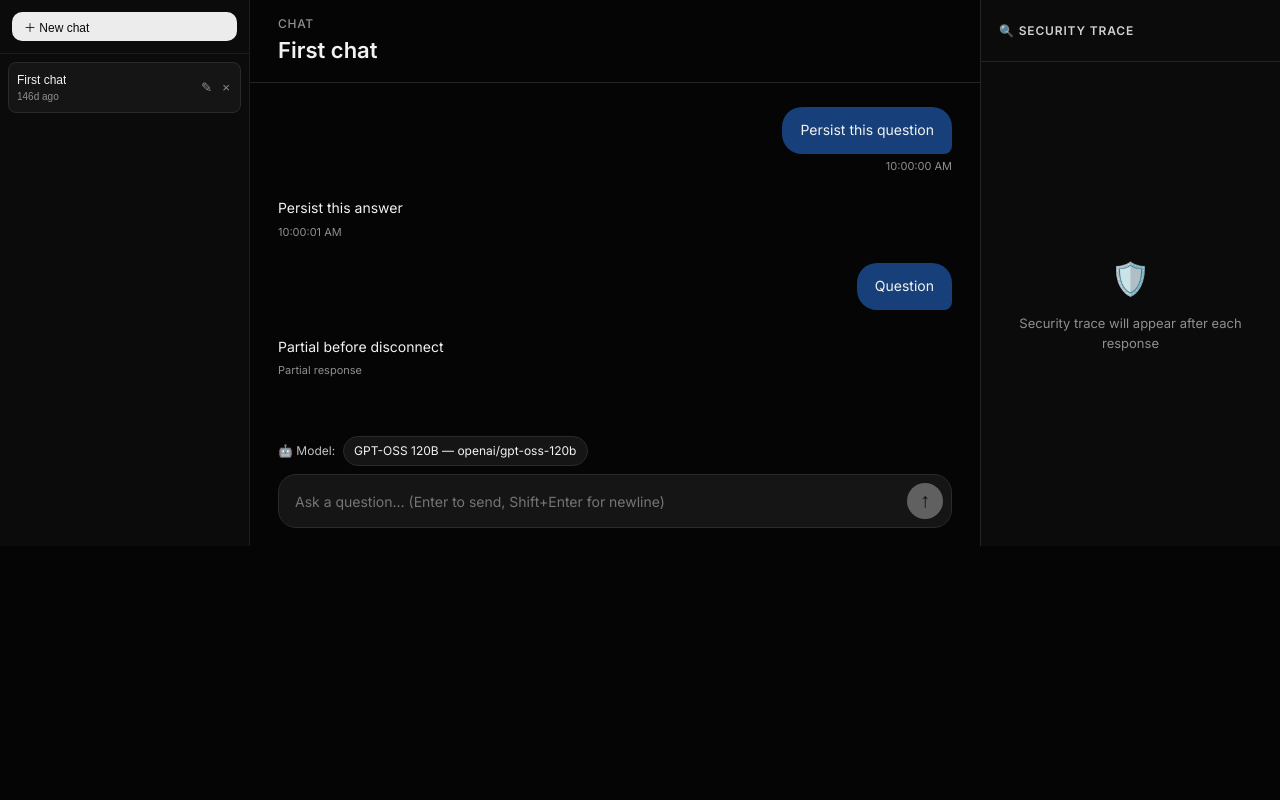
Test: persistent conversations › stops the animation and keeps received text when the stream errors
This screenshot has width=1280, height=800.
Check: the text "Persist this answer" is shown, box [278,197,403,220]
Type "Question" into the text box with id "chat-input" at [596, 501], box [295,484,897,519]
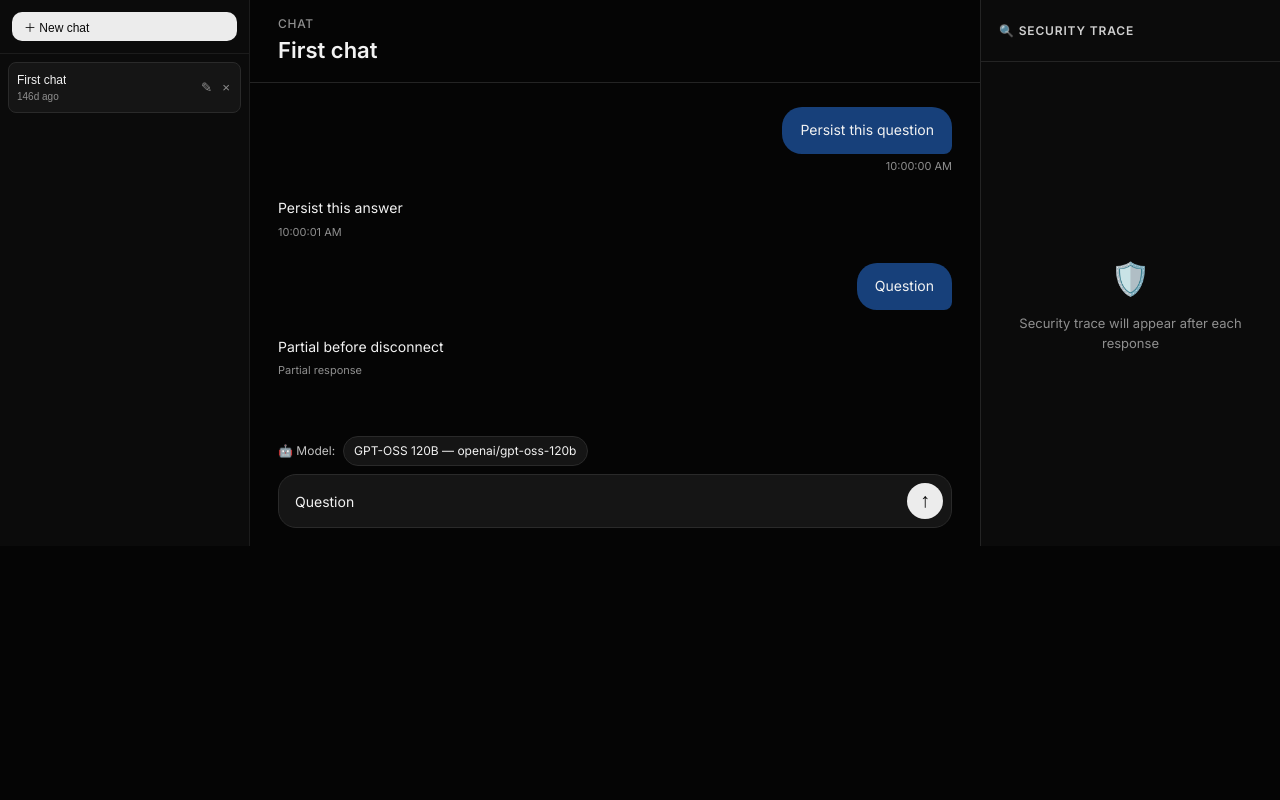
Click the button named "Send" at [925, 501], box [907,483,943,519]
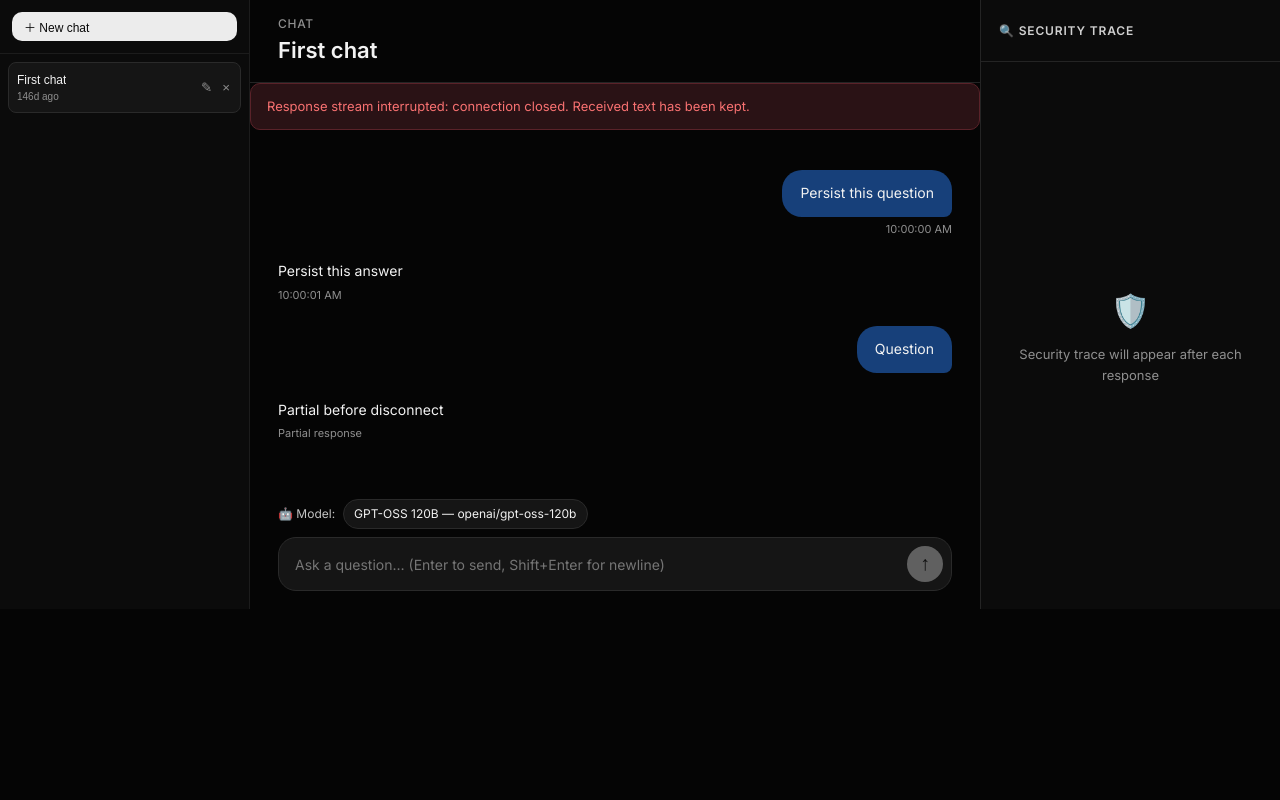
Check: the text "Partial before disconnect" is shown, box [278,398,444,421]
Check: the text "Partial response" is shown, box [278,426,362,440]
Type "Continue after disconnect" into the text box with id "chat-input" at [596, 564], box [295,546,897,582]
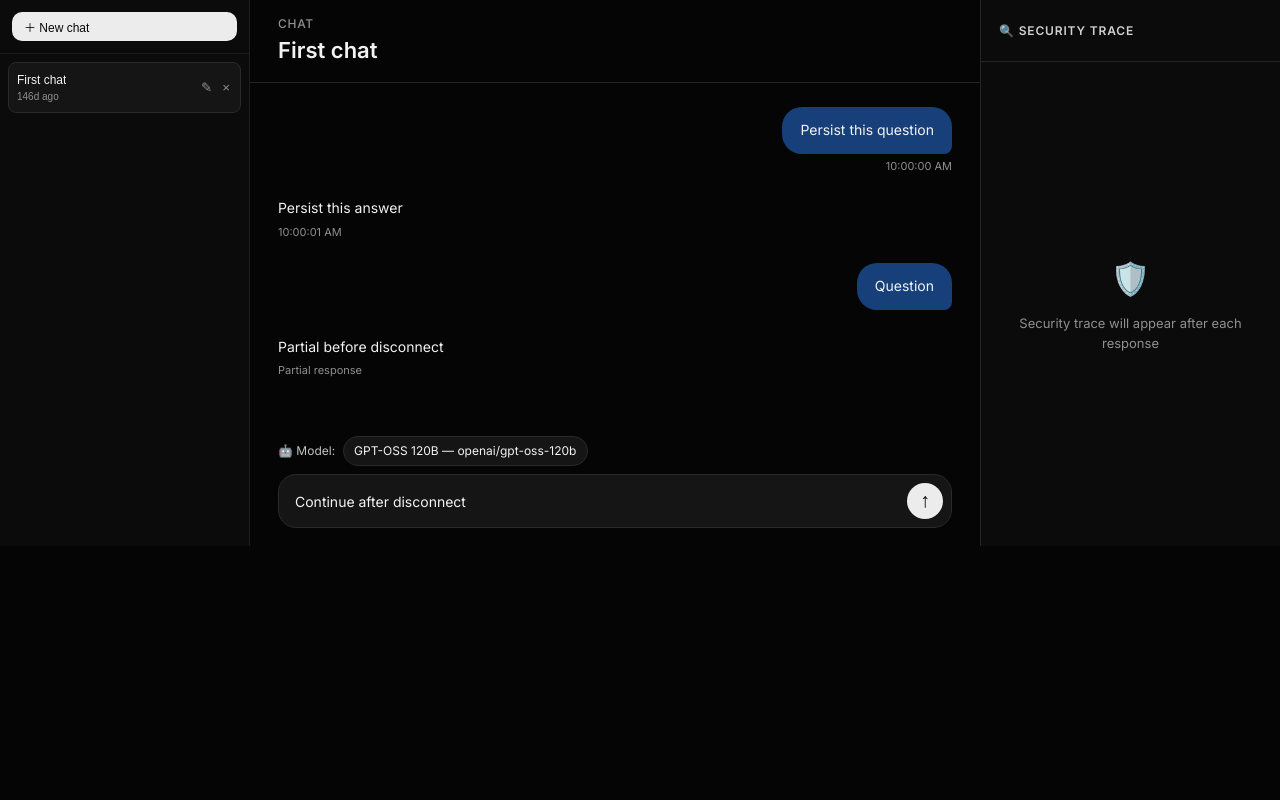
Check: the button named "Send" is enabled, box [907,483,943,519]
